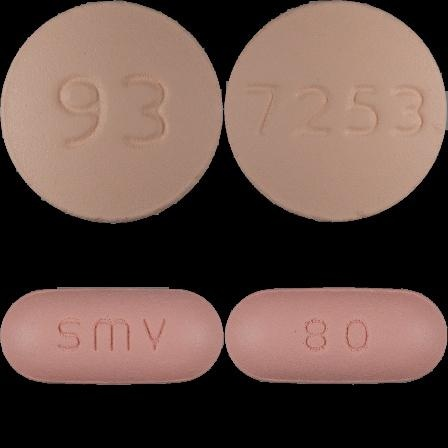42254-166: (0, 0, 224, 224)
